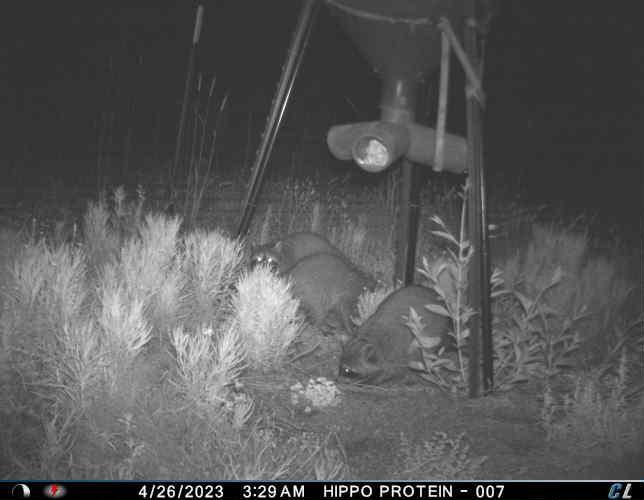Raccoon: (339, 281, 455, 386), (275, 256, 382, 326), (253, 228, 362, 293)
